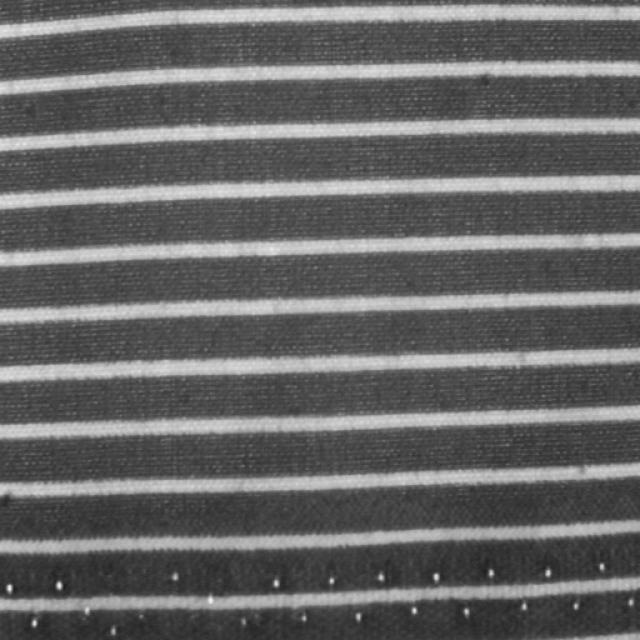Hole-Defect: (0, 554, 639, 639)
